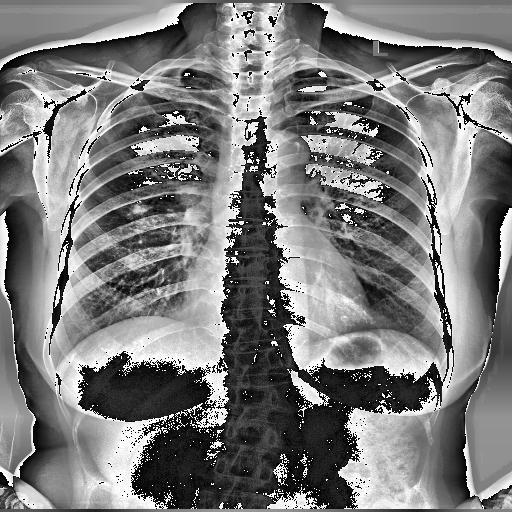0- Aortic enlargement: (258, 128, 311, 174)
11- Pleural thickening: (287, 62, 346, 74), (152, 64, 206, 77)
13- Pulmonary fibrosis: (130, 201, 164, 243)
2- Calcification: (292, 139, 303, 152)
7- Lung Opacity: (108, 92, 150, 144), (107, 114, 132, 144), (130, 201, 156, 215)
8- Nodule-Mass: (172, 184, 202, 206), (176, 184, 200, 206), (202, 190, 228, 208), (174, 186, 200, 204), (130, 202, 154, 214)
